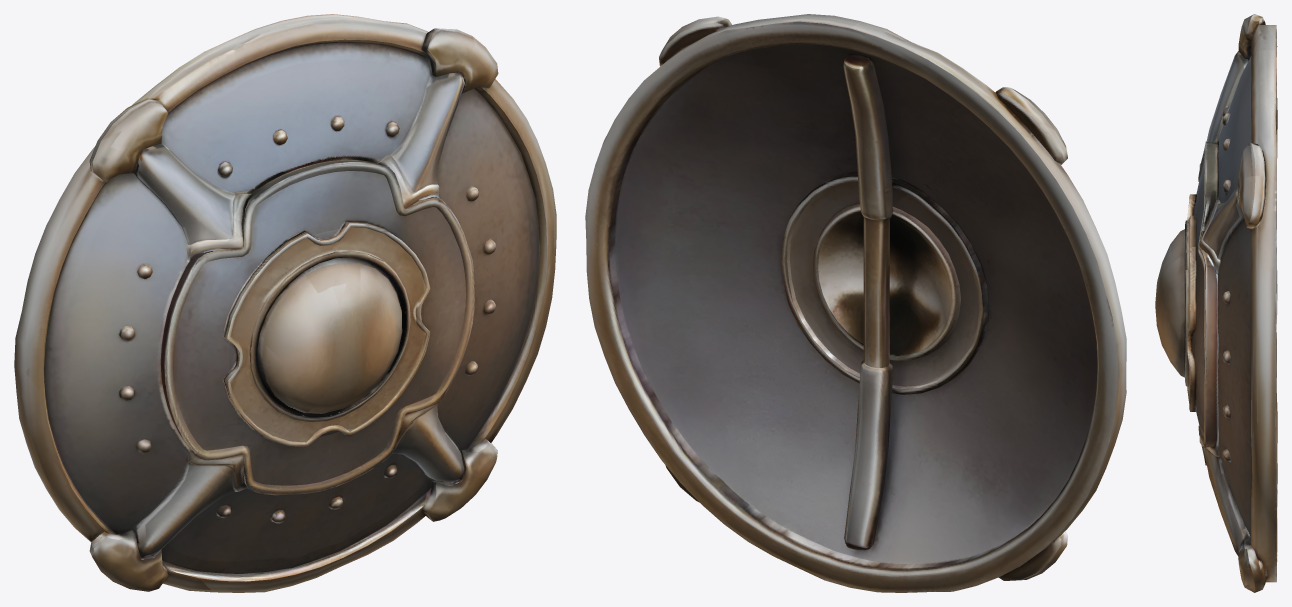
Rendered from texture.glb.
3 views of the same model, side by side, from view 1: azimuth 30°, elevation 25°; view 2: azimuth 150°, elevation 25°; view 3: azimuth 270°, elevation 25° (orthographic). The views are drawn at different scales.
Parts seen in each view (by area): view 1: mvadapter_node_texture_mesh_82caa5e8b965a87b; view 2: mvadapter_node_texture_mesh_82caa5e8b965a87b; view 3: mvadapter_node_texture_mesh_82caa5e8b965a87b.
Part boxes in pixels (x1,y1,x2,y2): mvadapter_node_texture_mesh_82caa5e8b965a87b: [14, 14, 556, 592]; mvadapter_node_texture_mesh_82caa5e8b965a87b: [585, 14, 1126, 592]; mvadapter_node_texture_mesh_82caa5e8b965a87b: [1155, 14, 1277, 592].
Bounding box in the file's own units: 4.66 × 4.67 × 1.03.
Materials: 1 (1 with a texture image).
